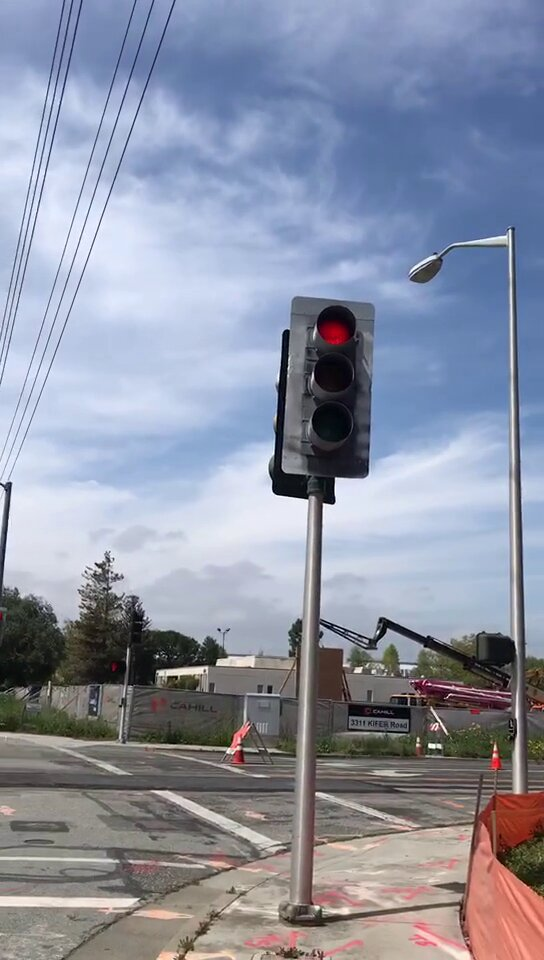red_light: (295, 305, 365, 475)
